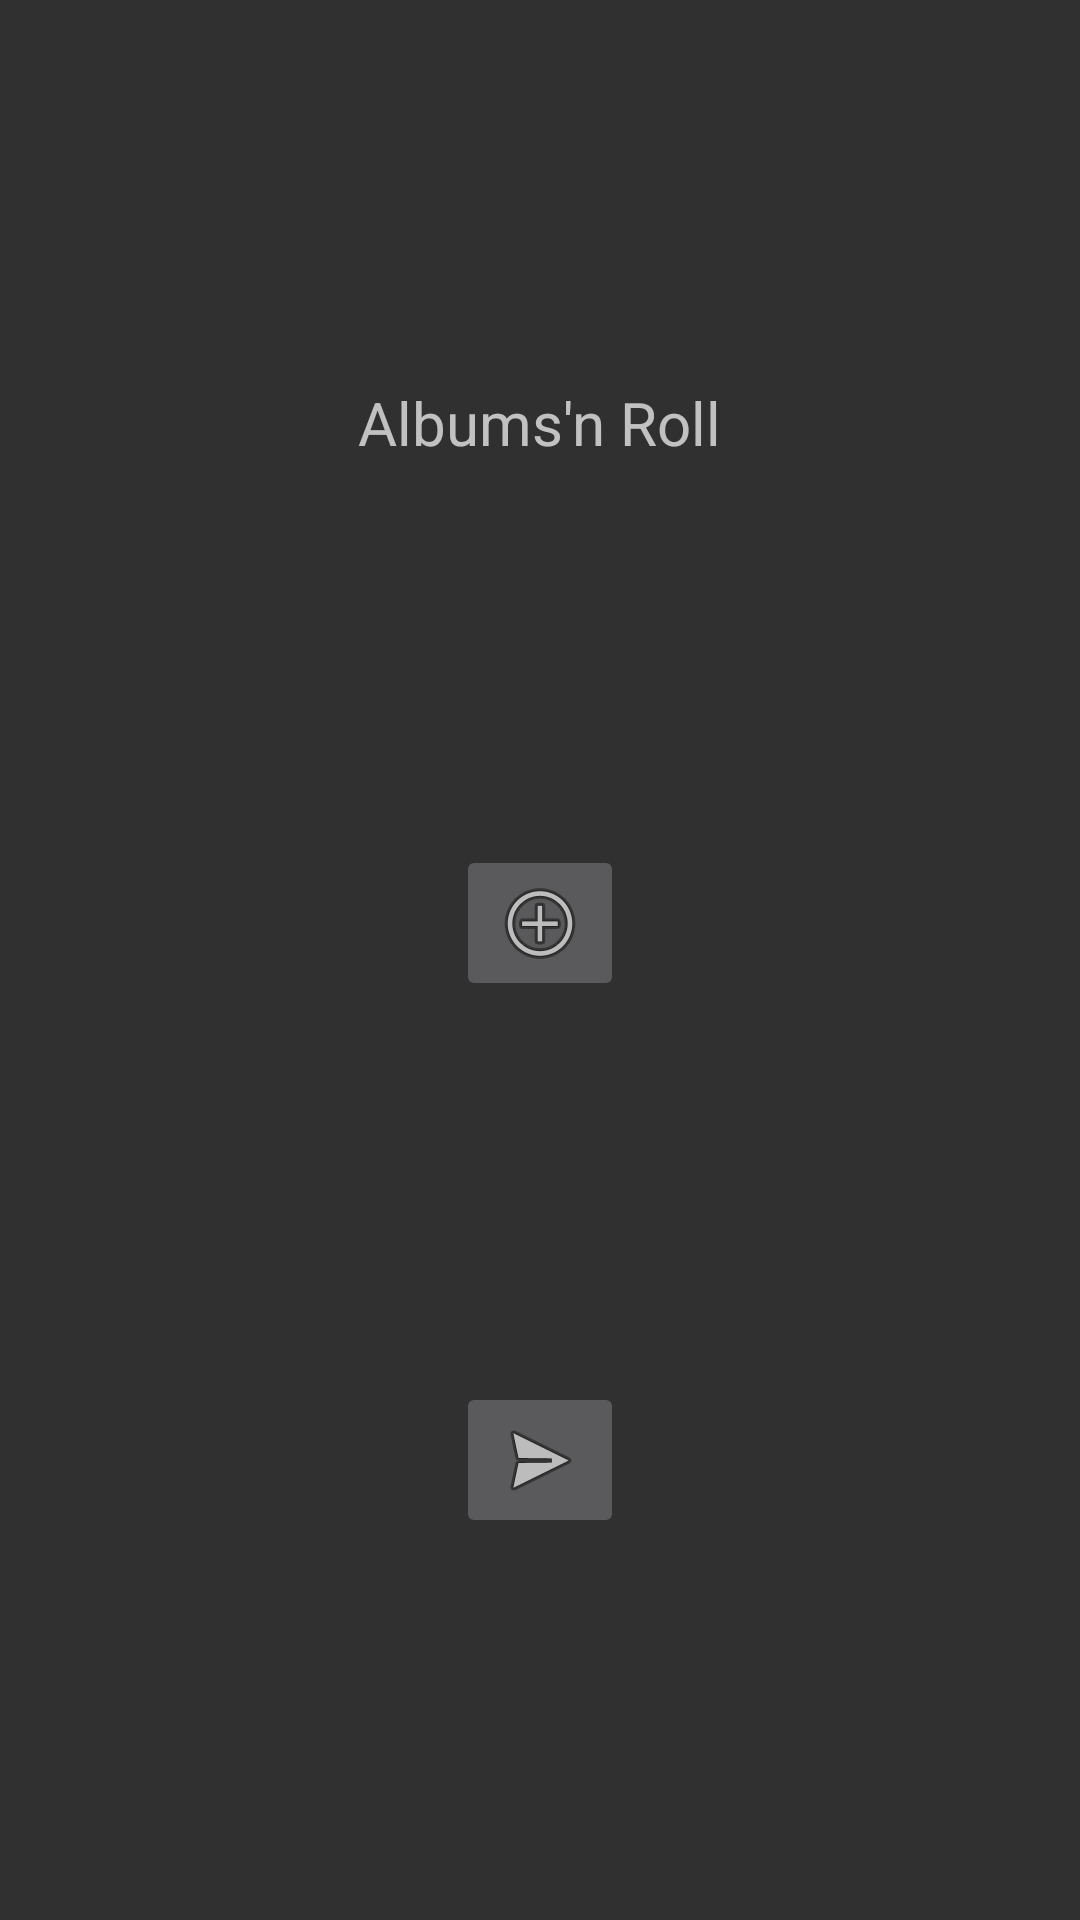

Screen size 1080*1920. Icon name, then its box in pixels as (x1, y1, x2, y2):
add: (468, 863, 612, 983)
send: (468, 1400, 612, 1520)
